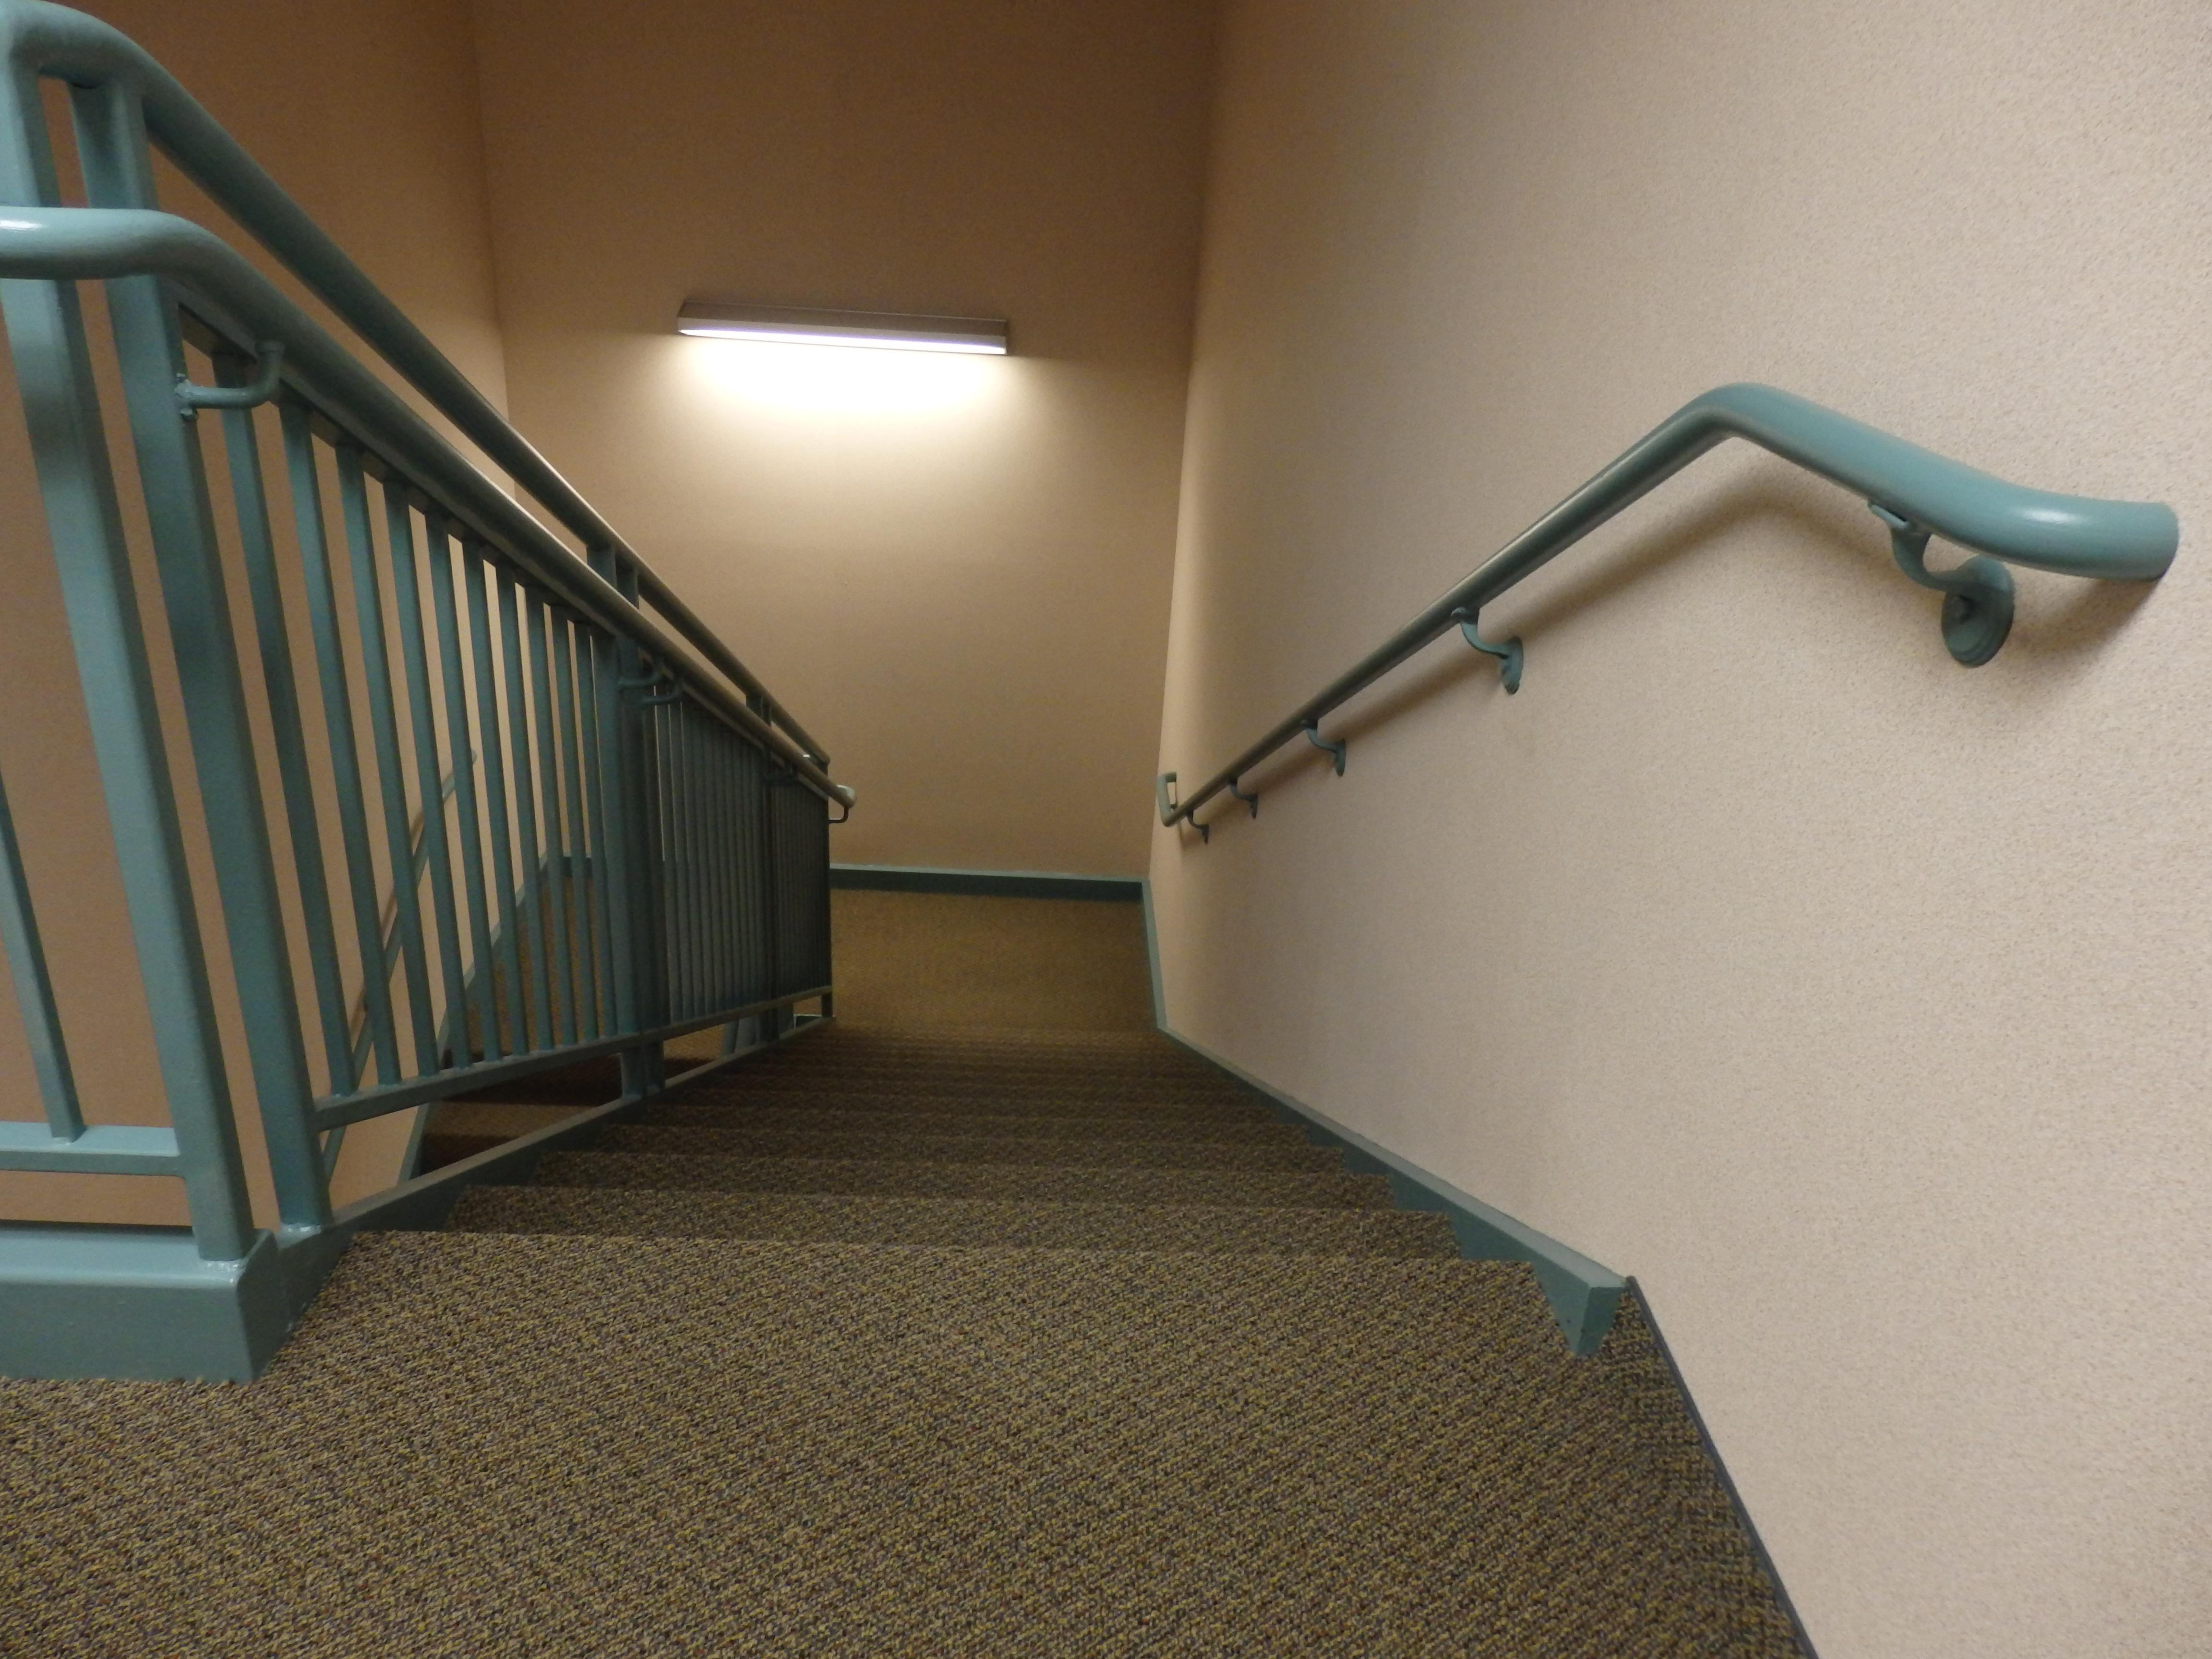stairs_down: (453, 1028, 1568, 1270)
